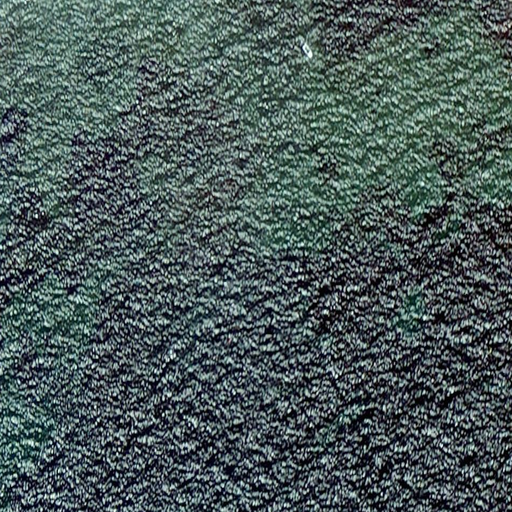ship: (301, 44, 315, 59)
